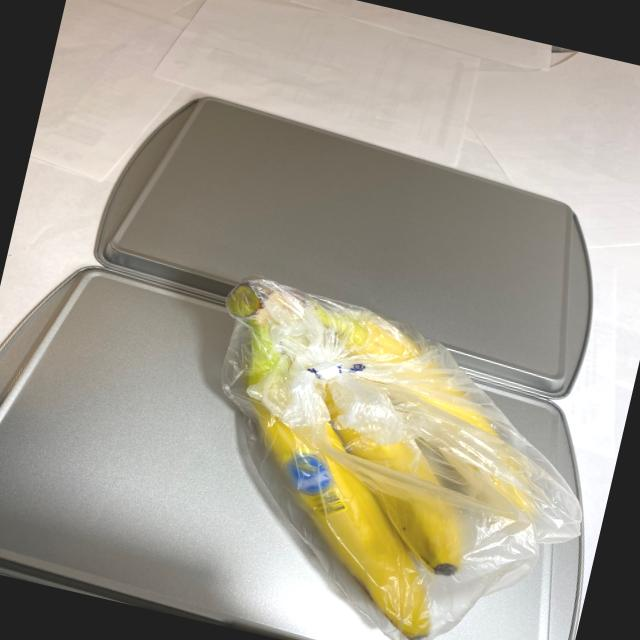banana: (145, 264, 599, 640)
